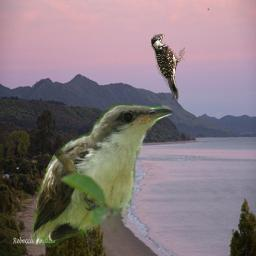Cuckoo: (29, 103, 172, 247)
Woodpecker: (151, 34, 185, 101)
